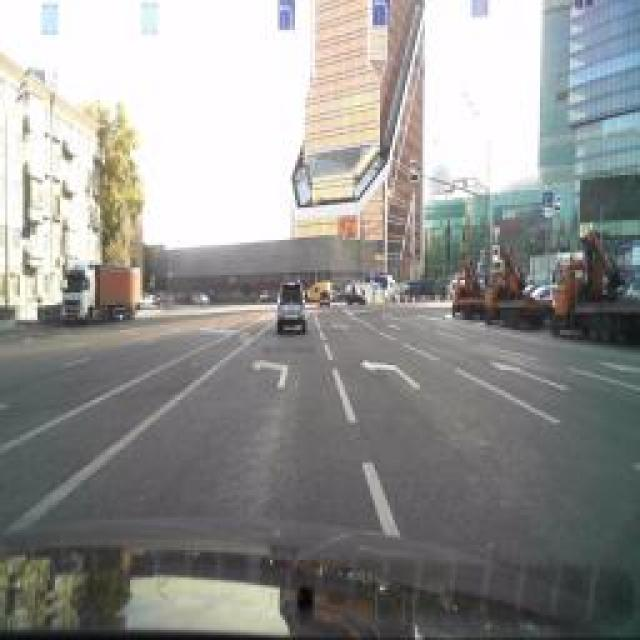sign: (277, 0, 297, 32), (371, 0, 391, 28), (471, 0, 489, 18), (544, 190, 551, 208)
